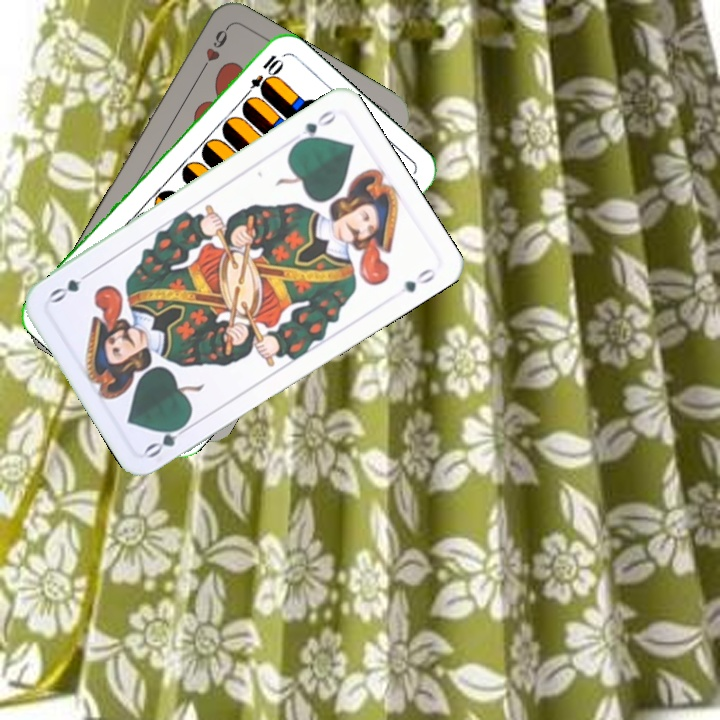E10: (239, 50, 284, 102)
GO: (141, 416, 195, 461), (290, 106, 339, 149)
H9: (195, 23, 231, 77)
